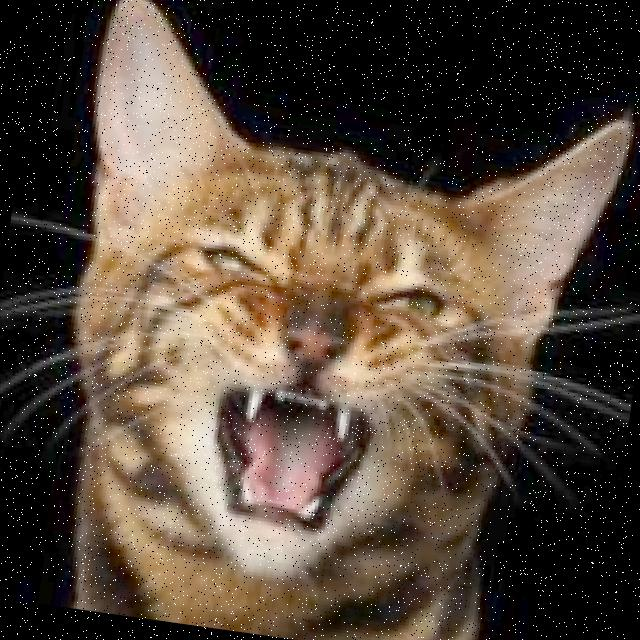Angry: (88, 180, 496, 606)
